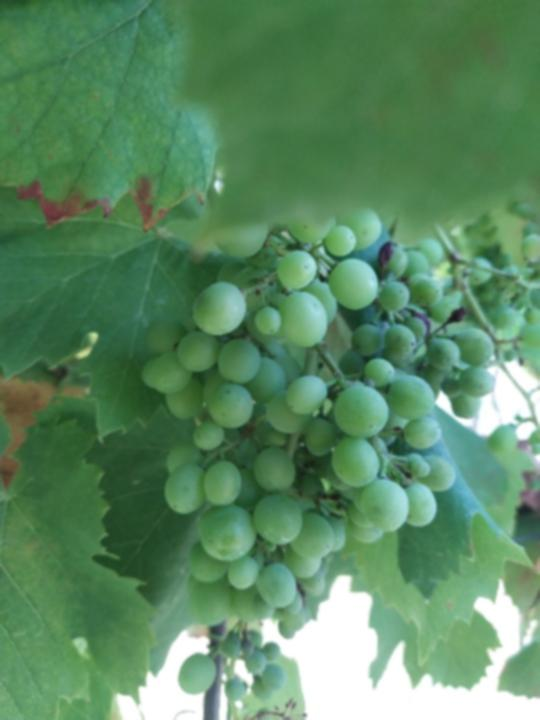grape: (140, 207, 499, 639)
